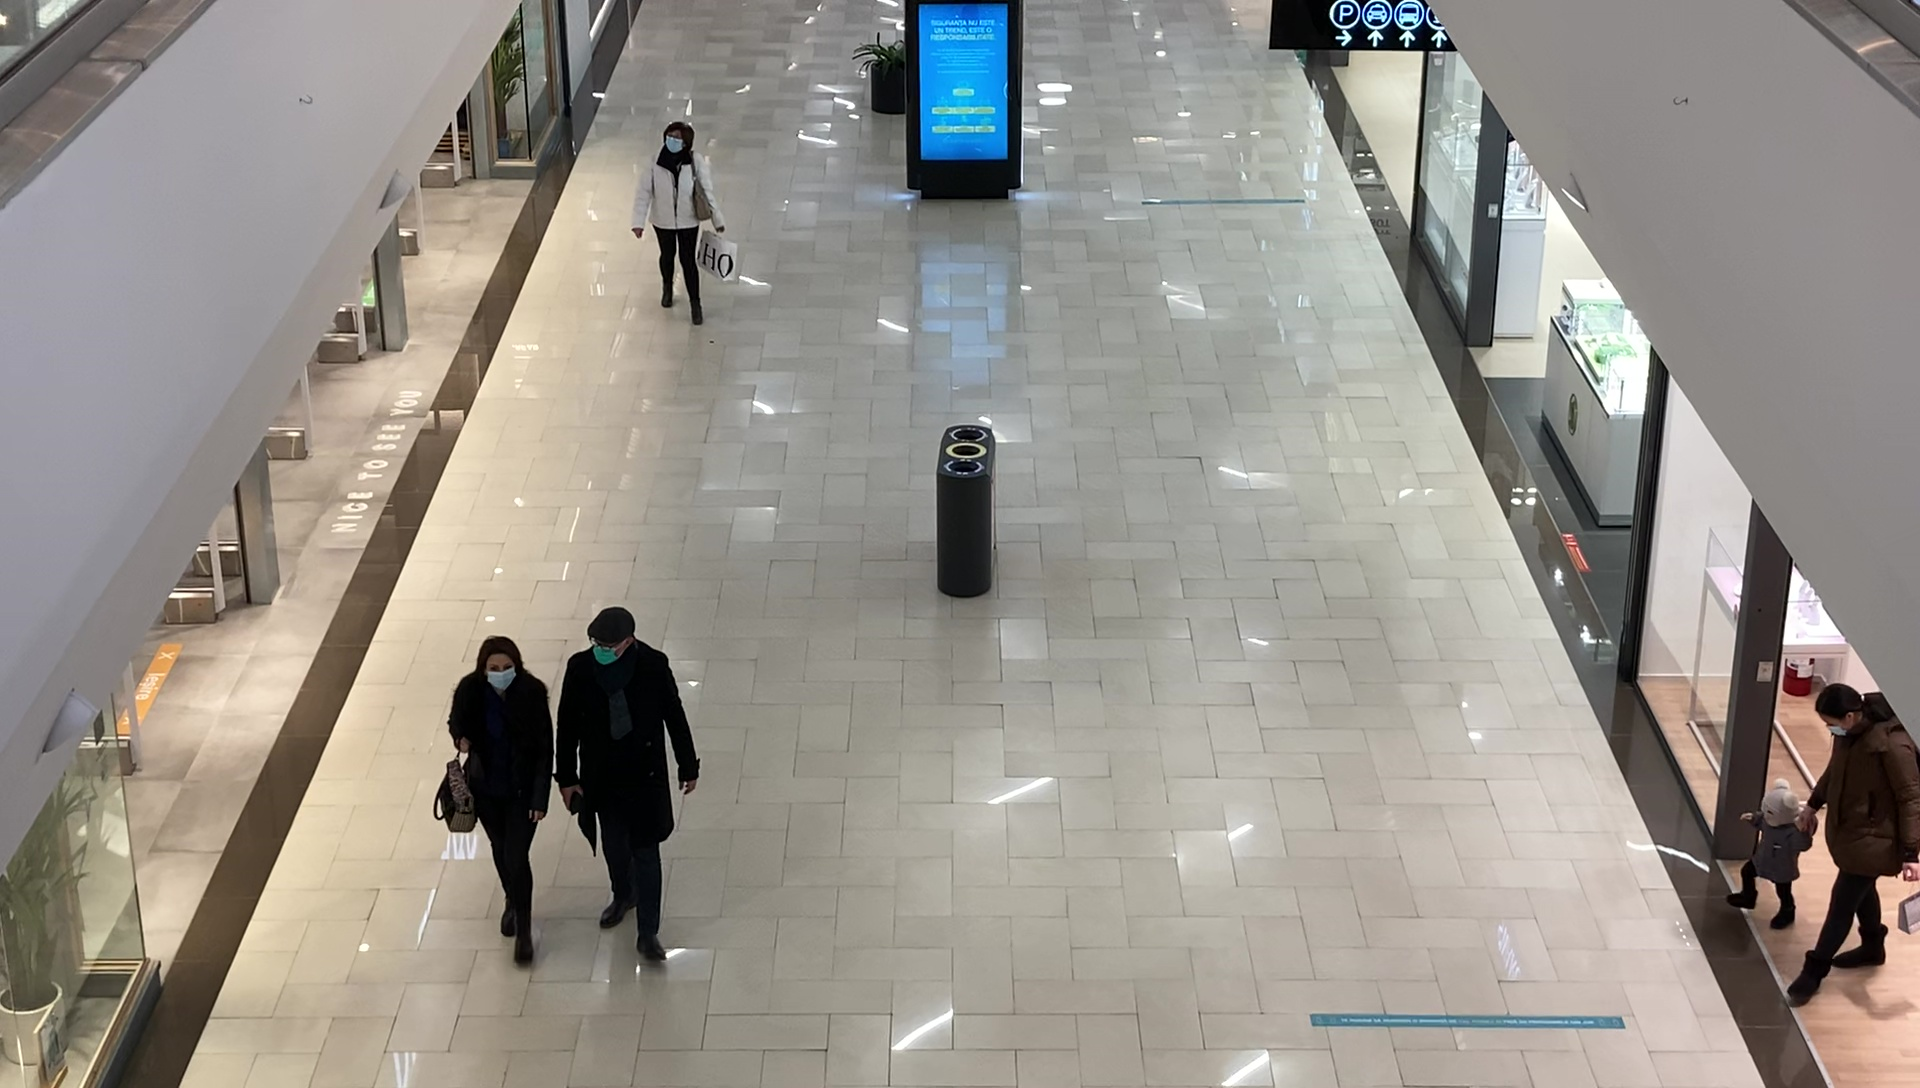person: (555, 608, 698, 963), (439, 636, 549, 967), (1812, 684, 1915, 1010), (631, 121, 739, 324), (1727, 782, 1813, 929)
